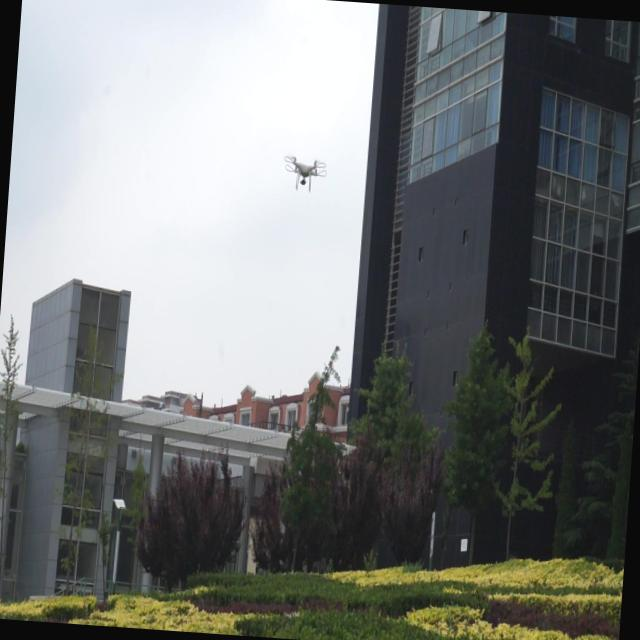drone: (280, 150, 330, 196)
